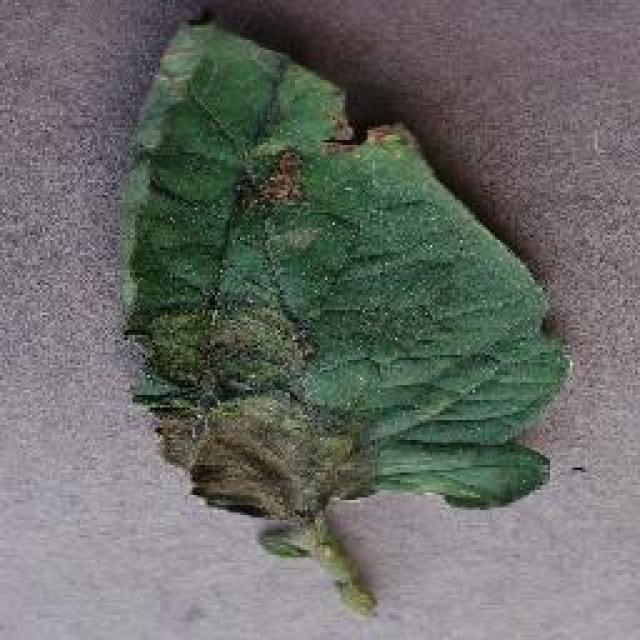Tomato___Late_blight: (114, 20, 573, 617)
